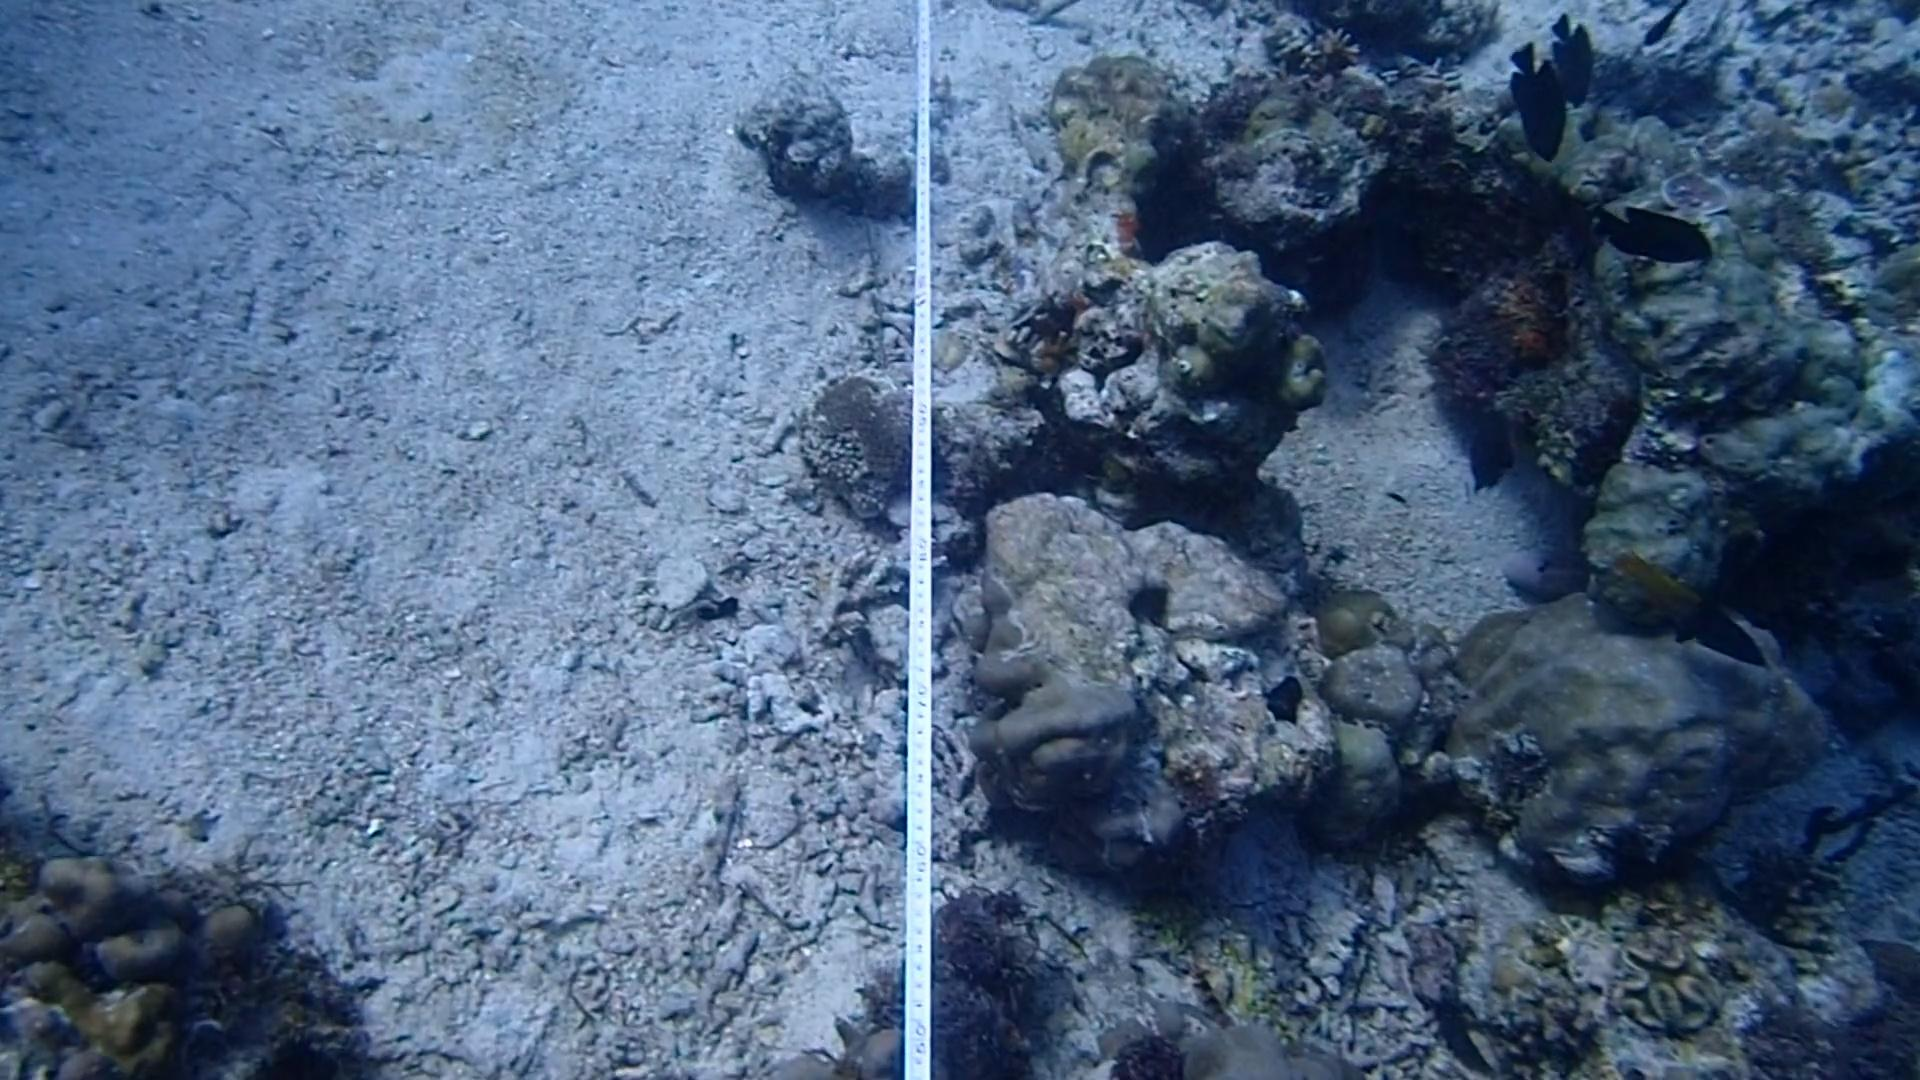Dark Fish: (1580, 185, 1731, 273), (1494, 26, 1575, 174), (1530, 5, 1611, 119), (1630, 0, 1700, 59)
Half Blue - Half Yellow: (1605, 537, 1768, 674)
